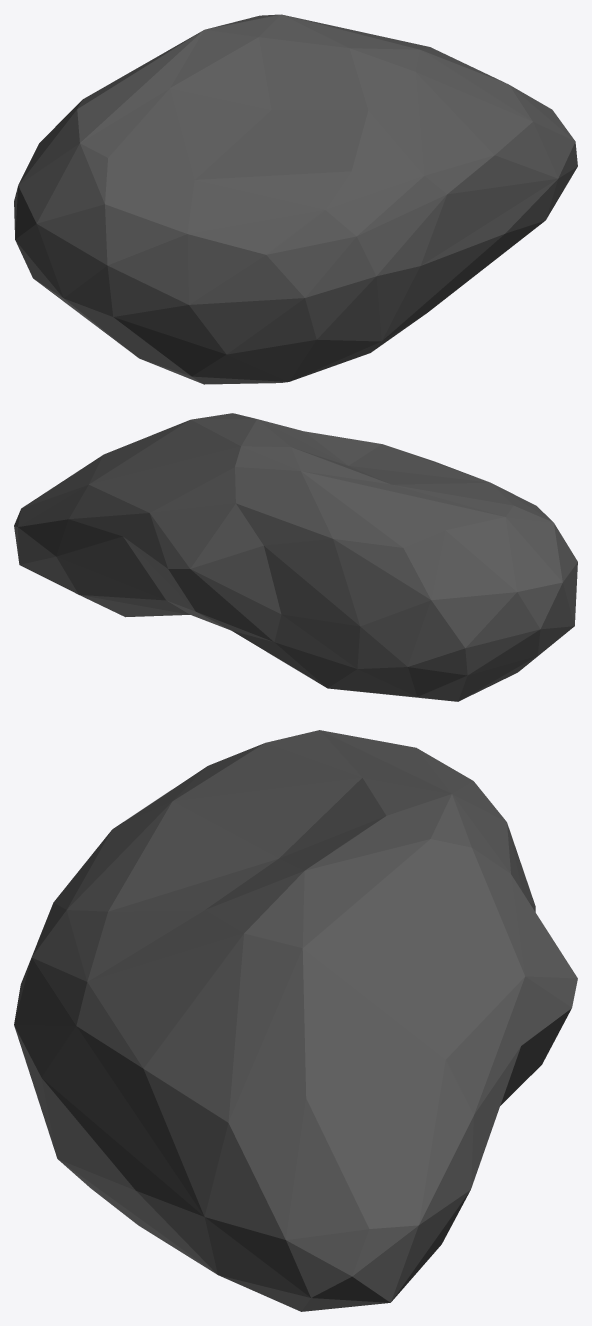
The model's file is stone3.fbx.
3 renders of one model, top to bottom at view 1: azimuth 30°, elevation 25°; view 2: azimuth 150°, elevation 25°; view 3: azimuth 270°, elevation 25°, orthographic. The views are drawn at different scales.
Visible parts, largest first — view 1: stone3; view 2: stone3; view 3: stone3.
Boxes of the visible parts, <box> form: stone3: <box>14,14,577,384</box>; stone3: <box>14,413,577,701</box>; stone3: <box>14,730,577,1311</box>.
Bounding box in the file's own units: 101 × 46.57 × 60.26.
